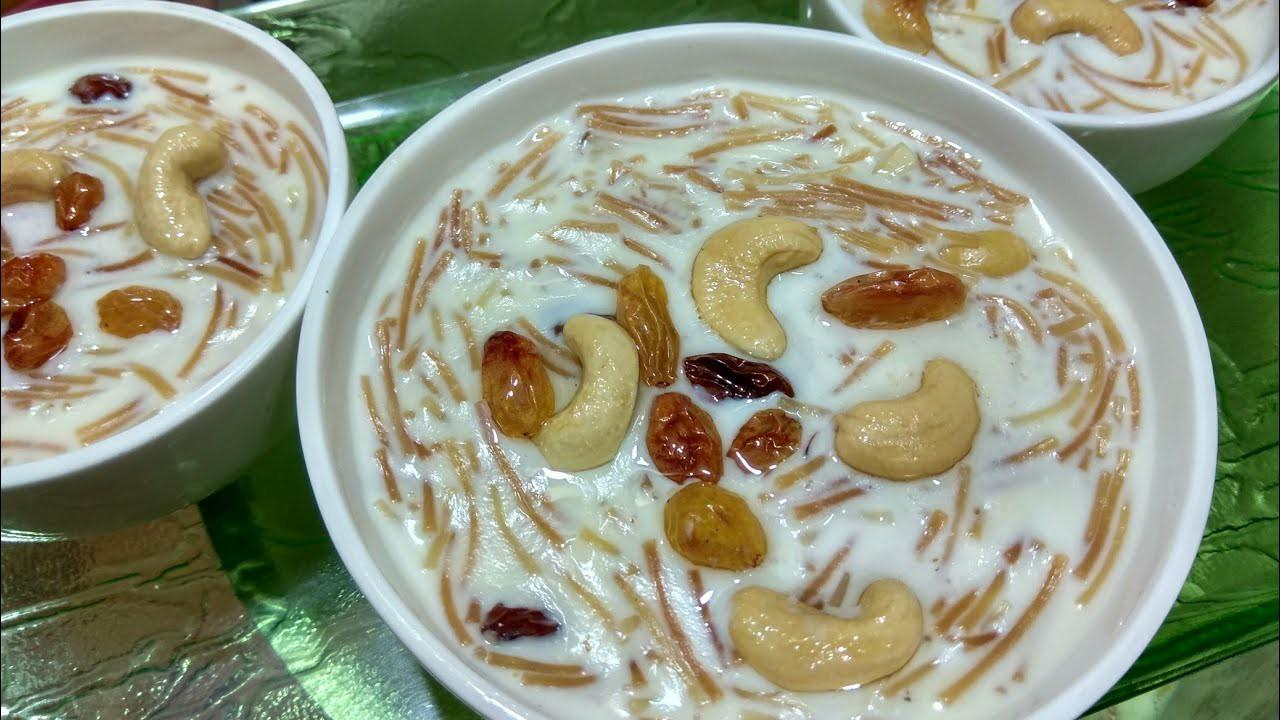Kheer: (352, 81, 1154, 720), (0, 58, 328, 479), (853, 0, 1280, 119)
